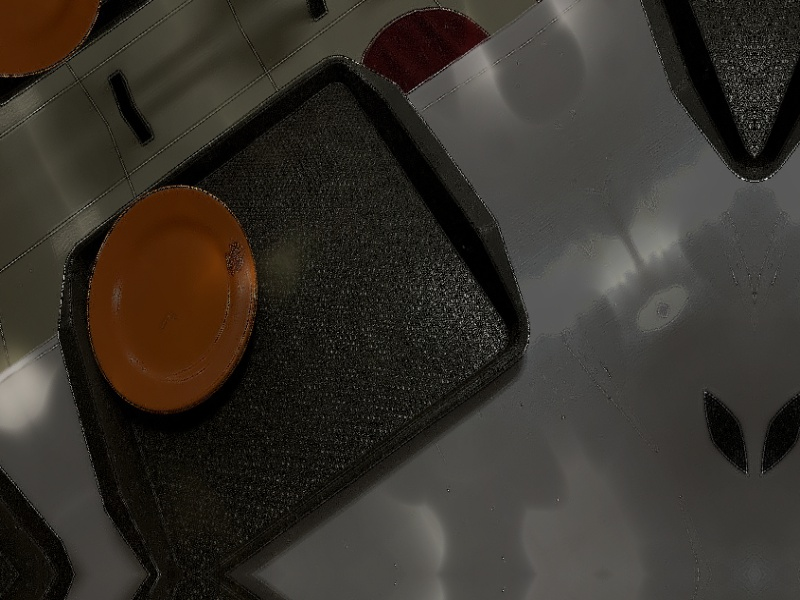dish10: (42, 147, 302, 455)
